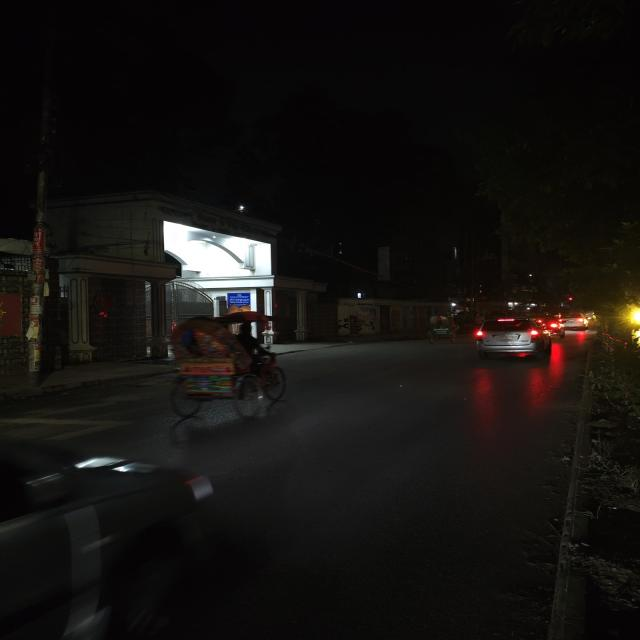car: (468, 314, 552, 362), (560, 310, 591, 333)
rickshaw: (160, 312, 296, 428), (422, 314, 458, 346)
